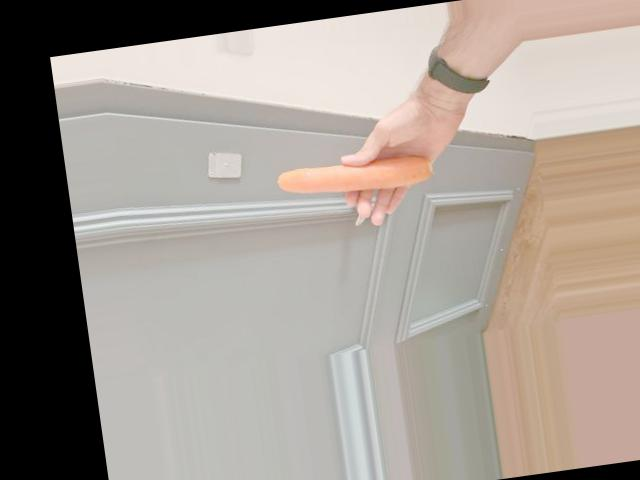carrot: (278, 145, 433, 203)
